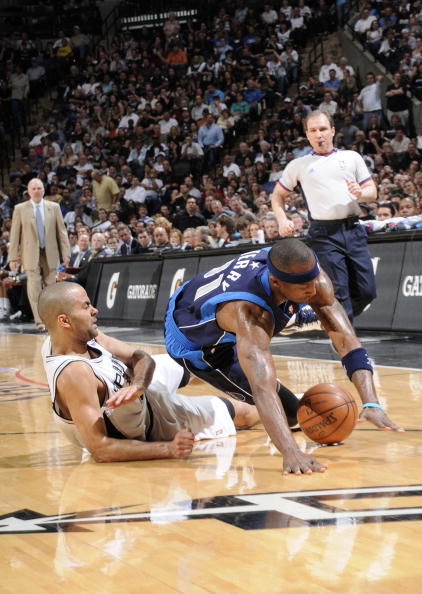10+: (7, 11, 407, 318)
down: (166, 242, 402, 470), (35, 277, 264, 466)
